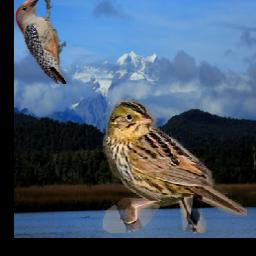Sparrow: (103, 99, 247, 233)
Woodpecker: (15, 0, 66, 85)
